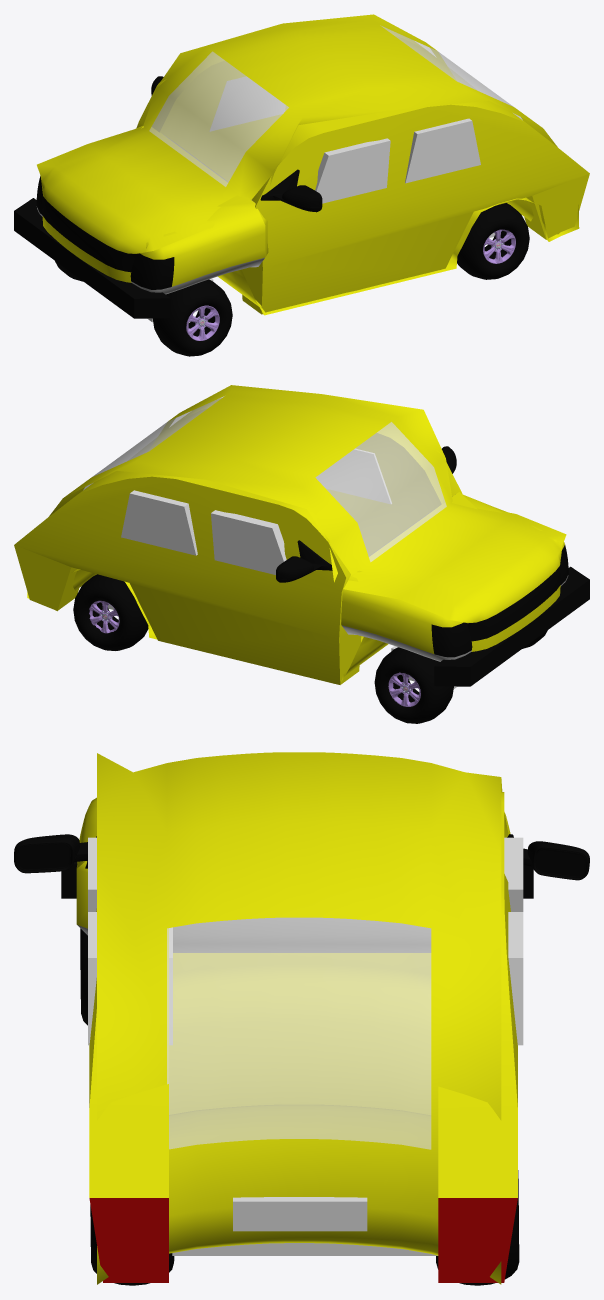
File: mini cooper.fbx
3 renders of one model, top to bottom at view 1: azimuth 30°, elevation 25°; view 2: azimuth 150°, elevation 25°; view 3: azimuth 270°, elevation 25°, orthographic. The views are drawn at different scales.
Parts seen in each view (by area): view 1: polySurface1, polySurface7, polySurface4, polySurface6, pTorus5, polySurface5, pCube14, pCube15, pCube9, _Side_view_Mirrors_v1_l3:Side_view_Mirrors_body_left, TIRE_RIM004, TIRE_RIM003; view 2: polySurface1, polySurface6, pTorus5, polySurface7, polySurface4, polySurface5, pCube9, pCube10, pCube14, _Side_view_Mirrors_v1_l3:Side_view_Mirrors_body_right, Tire:TIRE_RIM002, TIRE_RIM002; view 3: polySurface1, polySurface6, polySurface7, polySurface4, pCube7, pCube12, _Side_view_Mirrors_v1_l3:Side_view_Mirrors_body_left, _Side_view_Mirrors_v1_l3:Side_view_Mirrors_body_right, pTorus5, pCube10, pCube15, pCube9 (+1 smaller).
Boxes of the visible parts, x1,y1,x2,y2 form: polySurface1: (37, 14, 579, 315); polySurface7: (241, 100, 589, 314); polySurface4: (36, 126, 268, 294); polySurface6: (136, 26, 454, 181); pTorus5: (55, 203, 529, 356); polySurface5: (14, 198, 170, 318); pCube14: (315, 138, 390, 203); pCube15: (405, 118, 480, 183); pCube9: (210, 76, 285, 131); _Side_view_Mirrors_v1_l3:Side_view_Mirrors_body_left: (260, 169, 322, 212); TIRE_RIM004: (186, 305, 219, 340); TIRE_RIM003: (483, 229, 515, 263); polySurface1: (27, 385, 566, 681); polySurface6: (14, 471, 361, 684); pTorus5: (73, 574, 547, 723); polySurface7: (148, 398, 462, 555); polySurface4: (341, 492, 568, 661); polySurface5: (434, 566, 589, 686); pCube9: (211, 510, 286, 574); pCube10: (121, 490, 197, 555); pCube14: (316, 449, 391, 503); _Side_view_Mirrors_v1_l3:Side_view_Mirrors_body_right: (276, 540, 332, 582); Tire:TIRE_RIM002: (388, 672, 420, 706); TIRE_RIM002: (89, 600, 119, 633); polySurface1: (97, 752, 508, 1284); polySurface6: (438, 792, 517, 1282); polySurface7: (89, 908, 168, 1282); polySurface4: (76, 797, 510, 952); pCube7: (233, 1197, 367, 1231); pCube12: (172, 1243, 437, 1255); _Side_view_Mirrors_v1_l3:Side_view_Mirrors_body_left: (14, 834, 96, 873); _Side_view_Mirrors_v1_l3:Side_view_Mirrors_body_right: (507, 834, 589, 880); pTorus5: (80, 928, 519, 1285); pCube10: (508, 912, 523, 1045); pCube15: (88, 912, 172, 1045); pCube9: (504, 837, 523, 911).
Bounding box in the file's own units: 3.31 × 1.48 × 2.11.
